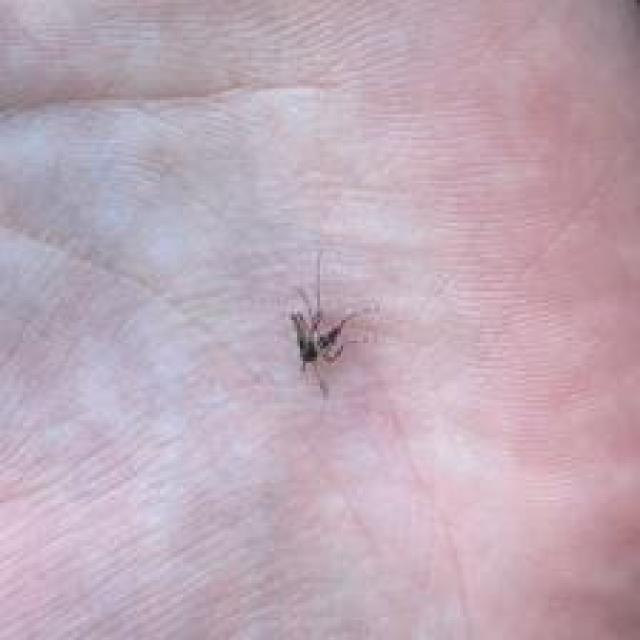Aedes albopictus: (286, 249, 371, 400)
